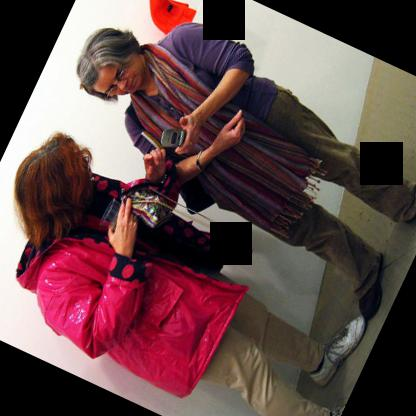handbag: (120, 178, 175, 229), (179, 177, 216, 214)
